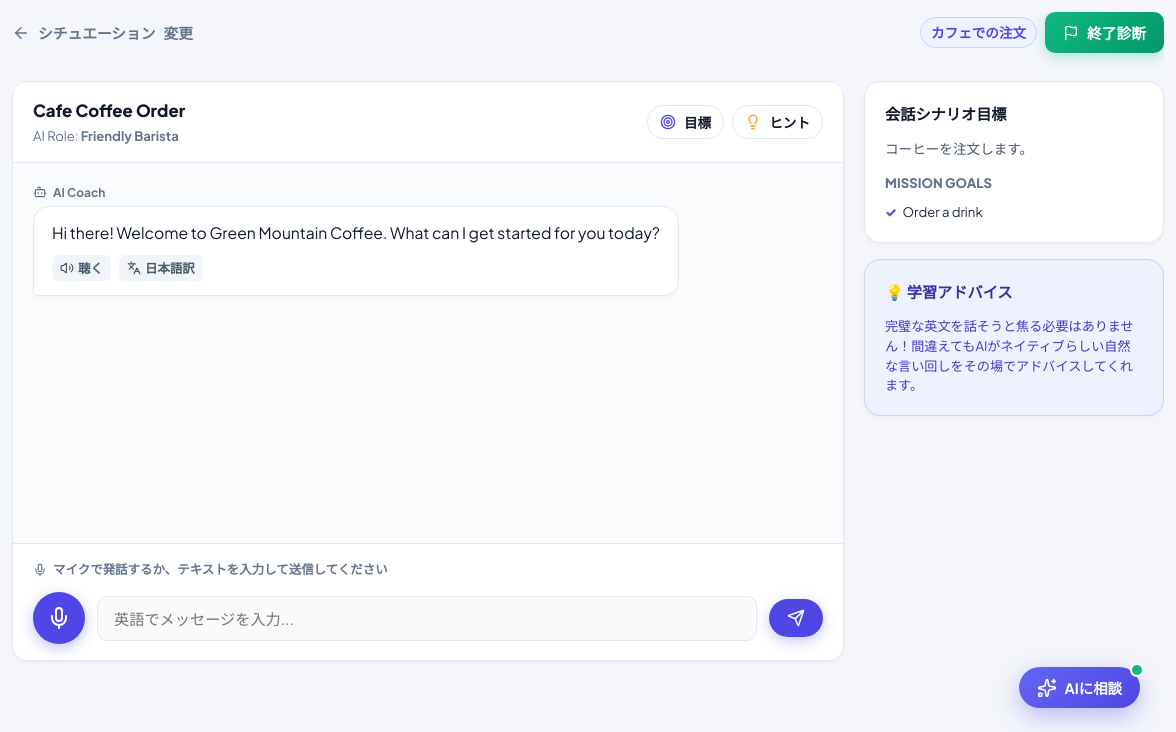
Test case: ChatRoom component › prevents duplicate word input when speech repeats existing word or overlaps
// User types manual text "Hello"
In the field with placeholder "英語でメッセージを入力...": (427, 618) [97, 596, 757, 640], type "Hello"
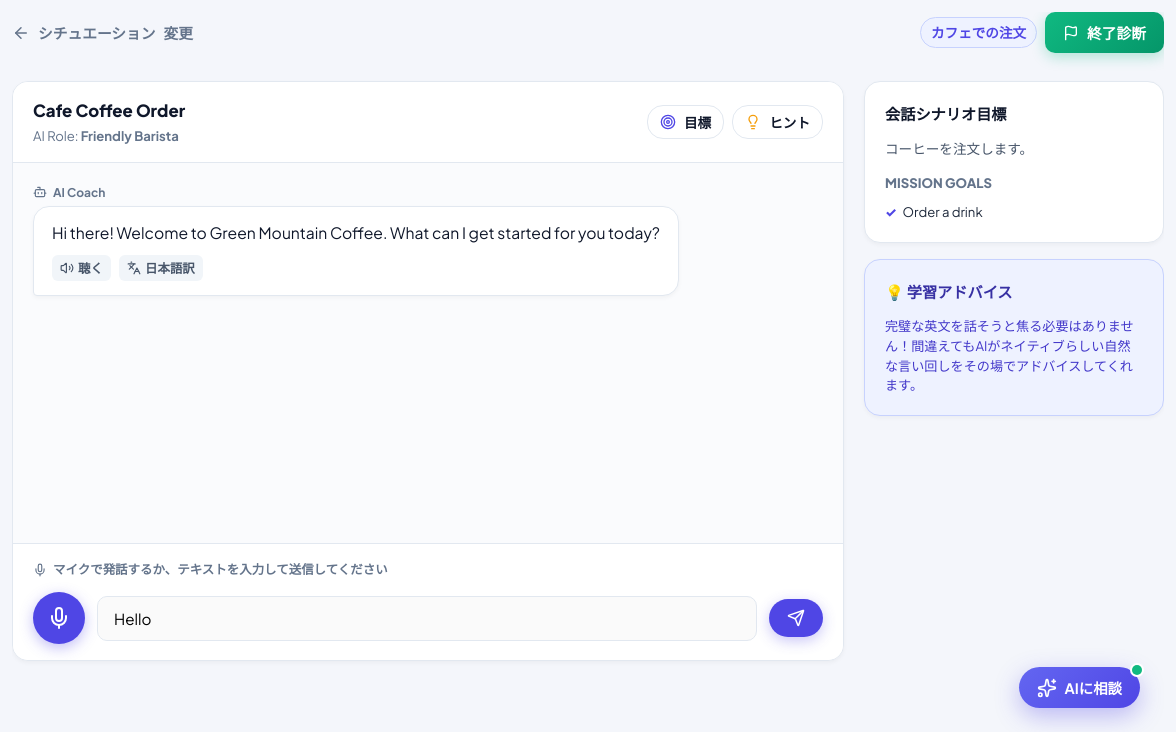
// Start recording
Click the button named "マイクで英語を話す": (59, 618) [33, 592, 85, 644]
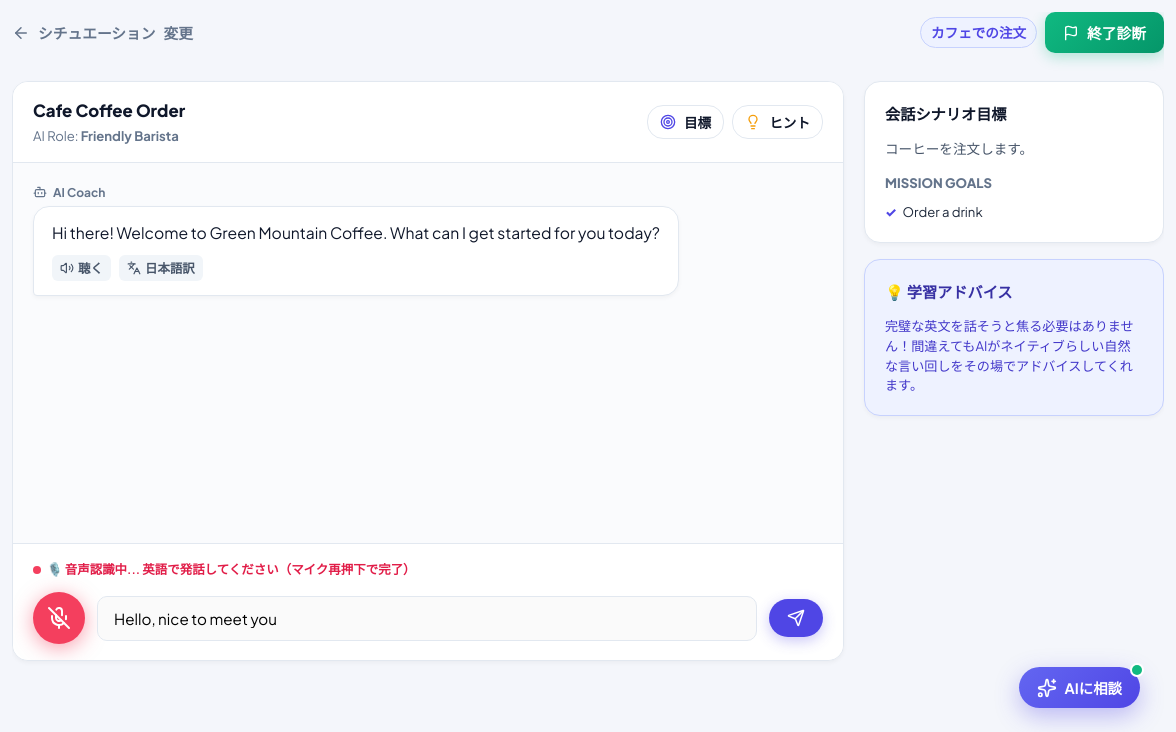
Now the field with placeholder "英語でメッセージを入力" holds "Hello, nice to meet you", box [97, 596, 757, 640]
